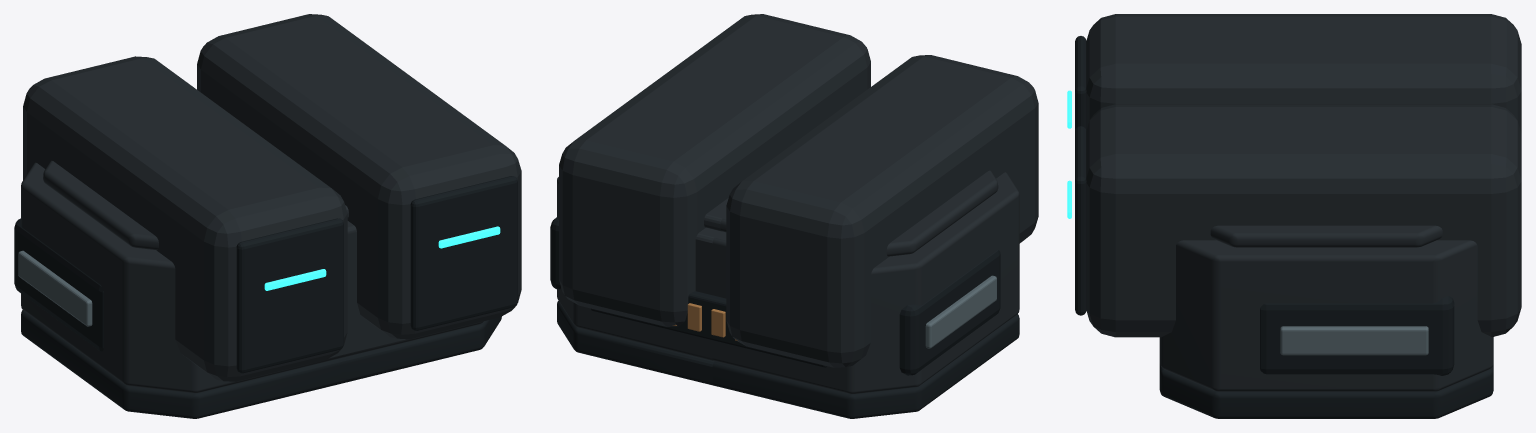
File: missile_module.glb
3 renders of one model, left to right at view 1: azimuth 30°, elevation 25°; view 2: azimuth 150°, elevation 25°; view 3: azimuth 270°, elevation 25°, orthographic. The views are drawn at different scales.
Visible parts, largest first — view 1: SealedMicroMissileCanister.001, CanisterCap.001, ConformalCassetteShell, LowerIsolationSeal, RecessedCoupler.001, ServiceLid, CouplerRail.001, CanisterWitness.001; view 2: SealedMicroMissileCanister.001, ConformalCassetteShell, LowerIsolationSeal, RecessedCoupler.001, ServiceLid, CouplerRail.001, ConnectorRecess, GoldContact.004; view 3: SealedMicroMissileCanister.001, ConformalCassetteShell, RecessedCoupler.001, LowerIsolationSeal, ServiceLid, CouplerRail.001, CanisterCap.001.
Boxes of the visible parts, x1=… form: SealedMicroMissileCanister.001: x1=23, y1=14, x2=521, y2=381; CanisterCap.001: x1=236, y1=176, x2=517, y2=373; ConformalCassetteShell: x1=21, y1=162, x2=483, y2=392; LowerIsolationSeal: x1=21, y1=310, x2=501, y2=418; RecessedCoupler.001: x1=14, y1=218, x2=103, y2=351; ServiceLid: x1=43, y1=160, x2=348, y2=250; CouplerRail.001: x1=18, y1=250, x2=92, y2=326; CanisterWitness.001: x1=264, y1=226, x2=500, y2=290; SealedMicroMissileCanister.001: x1=559, y1=14, x2=1038, y2=367; ConformalCassetteShell: x1=557, y1=172, x2=1019, y2=393; LowerIsolationSeal: x1=557, y1=301, x2=1019, y2=418; RecessedCoupler.001: x1=550, y1=217, x2=1000, y2=375; ServiceLid: x1=704, y1=170, x2=998, y2=256; CouplerRail.001: x1=925, y1=275, x2=996, y2=348; ConnectorRecess: x1=590, y1=291, x2=826, y2=367; GoldContact.004: x1=687, y1=303, x2=725, y2=337; SealedMicroMissileCanister.001: x1=1086, y1=14, x2=1521, y2=337; ConformalCassetteShell: x1=1159, y1=240, x2=1493, y2=391; RecessedCoupler.001: x1=1260, y1=296, x2=1454, y2=375; LowerIsolationSeal: x1=1159, y1=363, x2=1493, y2=418; ServiceLid: x1=1210, y1=225, x2=1442, y2=247; CouplerRail.001: x1=1280, y1=326, x2=1428, y2=355; CanisterCap.001: x1=1075, y1=36, x2=1086, y2=315.
Size of the model in its own units: 1.04 by 0.565 by 0.979.
